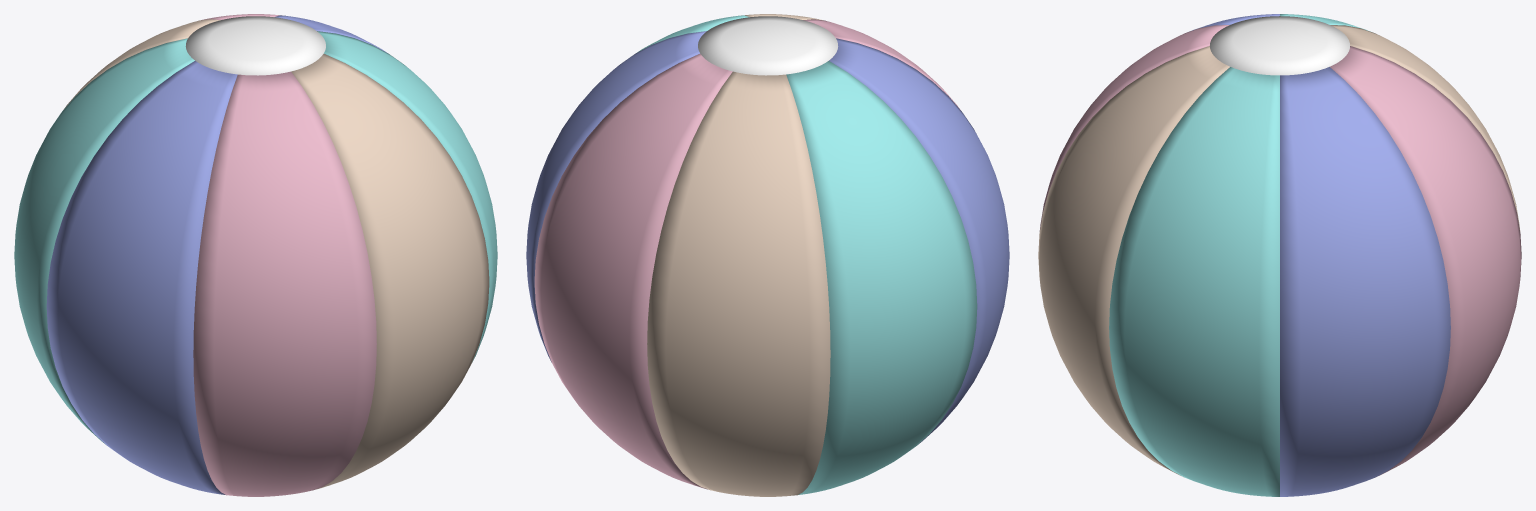
File: ball.fbx
3 renders of one model, left to right at view 1: azimuth 30°, elevation 25°; view 2: azimuth 150°, elevation 25°; view 3: azimuth 270°, elevation 25°, orthographic.
Parts seen in each view (by area): view 1: Sphere.001; view 2: Sphere.001; view 3: Sphere.001.
Boxes of the visible parts, x1,y1,x2,y2 form: Sphere.001: [14, 14, 497, 496]; Sphere.001: [526, 14, 1009, 496]; Sphere.001: [1038, 14, 1521, 496].
Size of what is drawn, in the model's own units: 200 by 200 by 200.
